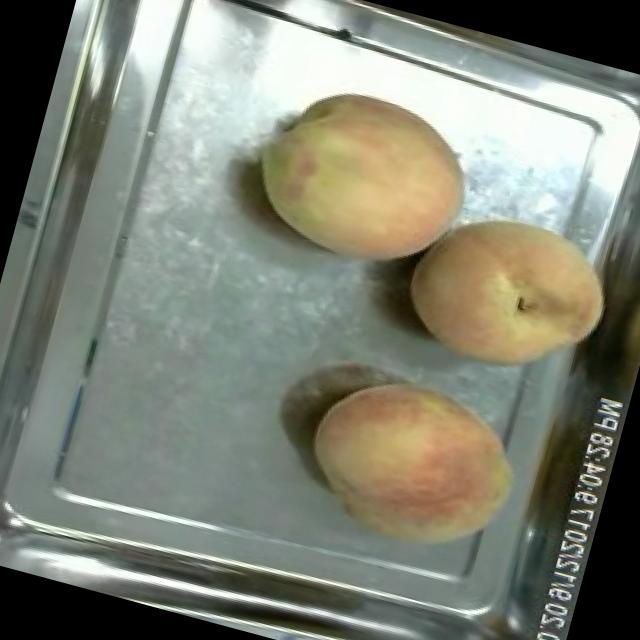Fruit: (232, 61, 489, 294), (284, 352, 544, 580), (382, 182, 632, 402)
